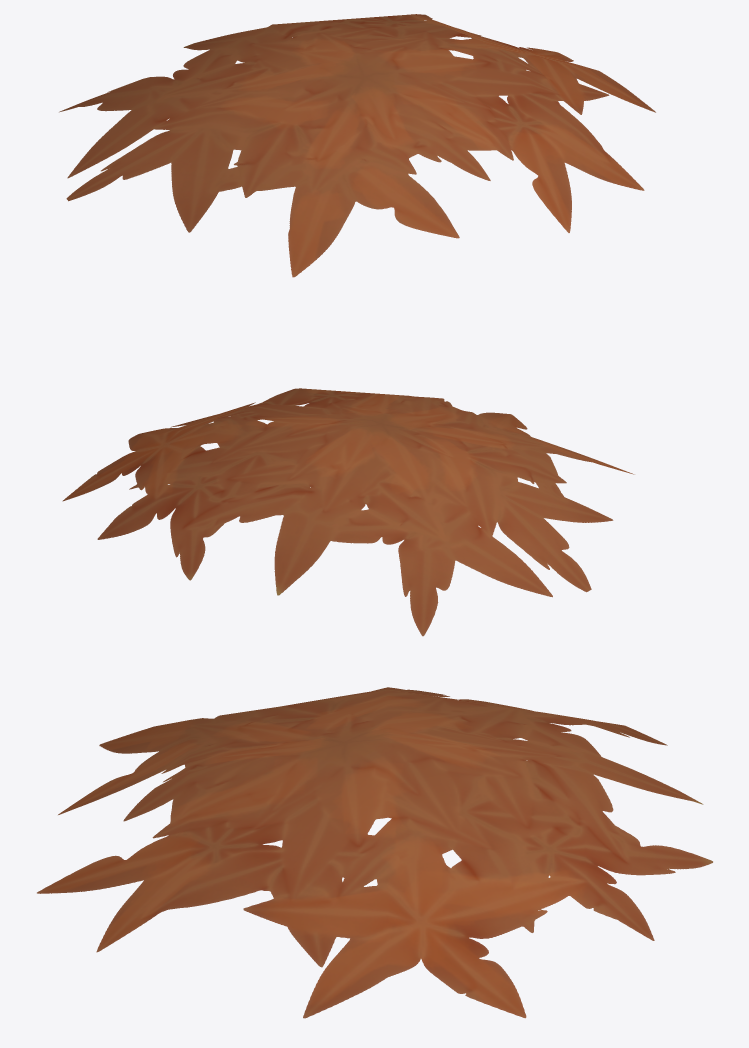
Rendered from Veg_Sanctum_Plants.fbx.
The picture shows the model from 3 angles, top to bottom: view 1: azimuth 30°, elevation 25°; view 2: azimuth 150°, elevation 25°; view 3: azimuth 270°, elevation 25°; orthographic projection. The views are drawn at different scales.
Visible parts, largest first — view 1: Veg_Sanctum_Plants; view 2: Veg_Sanctum_Plants; view 3: Veg_Sanctum_Plants.
Boxes of the visible parts, <box> form: Veg_Sanctum_Plants: <box>59,14,655,277</box>; Veg_Sanctum_Plants: <box>62,388,634,636</box>; Veg_Sanctum_Plants: <box>37,687,712,1018</box>.
Size of the model in its own units: 200 by 46.07 by 182.
